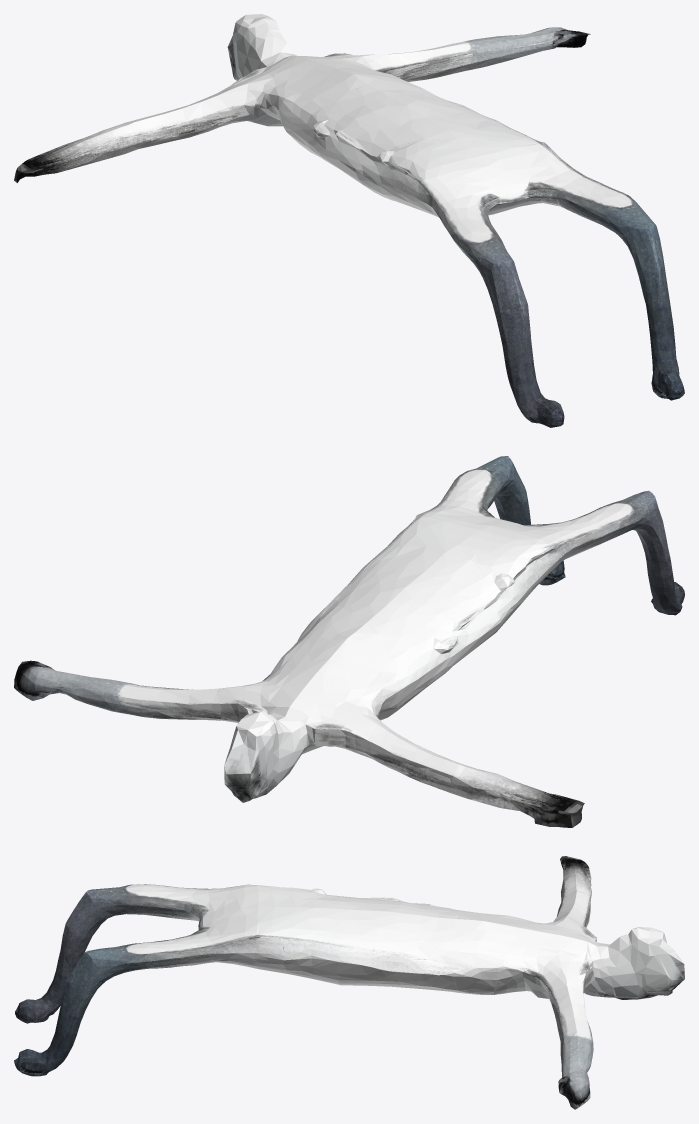
The model's file is body1.gltf.
3 views of the same model, one above another, from view 1: azimuth 30°, elevation 25°; view 2: azimuth 150°, elevation 25°; view 3: azimuth 270°, elevation 25° (orthographic). The views are drawn at different scales.
Parts seen in each view (by area): view 1: world; view 2: world; view 3: world.
Boxes of the visible parts, x1,y1,x2,y2 form: world: (14,14,684,427); world: (14,456,684,827); world: (14,856,684,1109).
Bounding box in the file's own units: 0.871 × 0.2355 × 1.02.
1 material, 1 textured.
